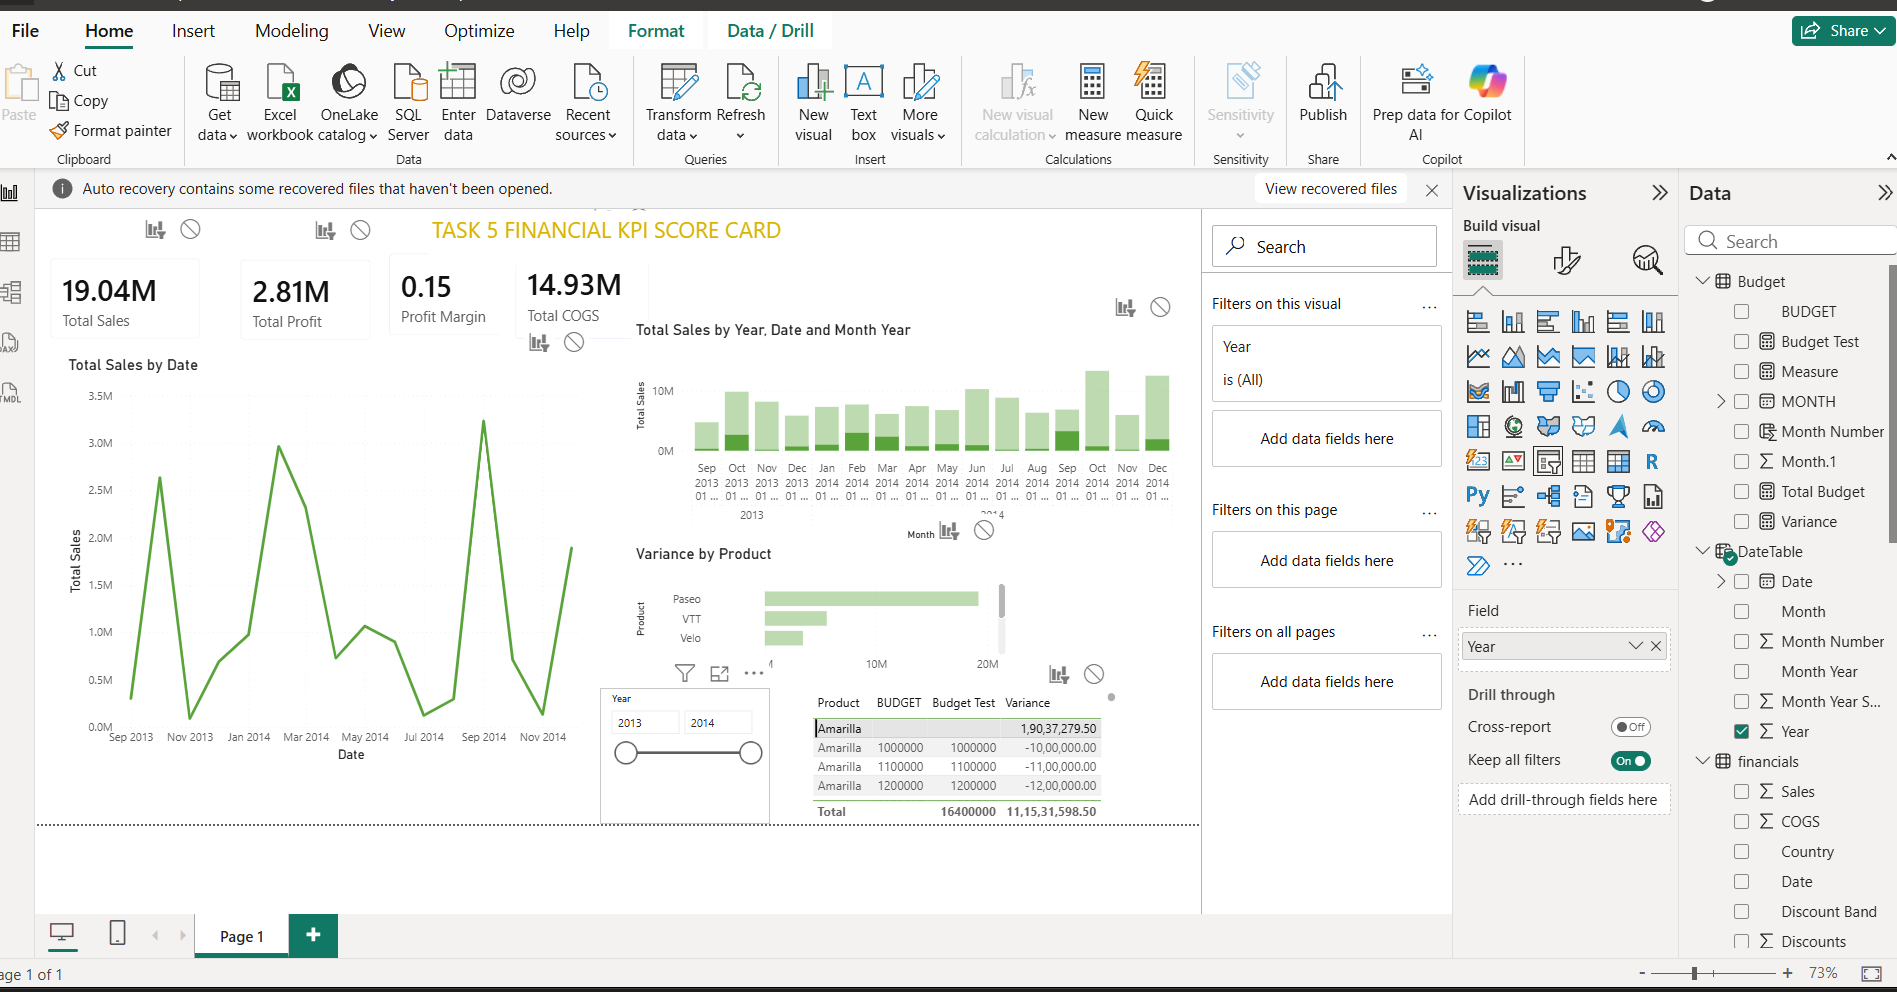

The page's visual inventory and layout, read from the dashboard file:
{"tool":"powerbi","page":{"name":"Page 1","canvas":[1280,720],"ordinal":0},"visuals":[{"type":"cardVisual","fields":{"Data":["financials.Total Sales"]},"box":[0,82.3,199,122.1],"z":0},{"type":"cardVisual","fields":{"Data":["financials.Profit Margin"]},"box":[371.9,76.8,157.8,124.9],"z":1000},{"type":"cardVisual","fields":{"Data":["financials.Total Profit"]},"box":[208.6,83.7,177,122.1],"z":2000},{"type":"cardVisual","fields":{"Data":["financials.Total COGS"]},"box":[510.5,70,181.1,135.8],"z":3000},{"type":"textbox","box":[430.9,46.7,417.2,60.4],"z":4000},{"type":"lineChart","fields":{"Y":["financials.Total Sales"],"Category":["financials.Date"]},"box":[31.6,205.8,588.7,451.5],"z":5000},{"type":"lineClusteredColumnComboChart","fields":{"Y":["financials.Total Sales"],"Category":["financials.Year","financials.Date.Variation.Date Hierarchy.Year","DateTable.Month Year"]},"box":[654.5,167.4,609.3,245.6],"z":6000},{"type":"clusteredBarChart","fields":{"Category":["financials.Product"],"Y":["Budget.Variance"]},"box":[654.5,413,416,150],"z":6001},{"type":"slicer","fields":{"Values":["DateTable.Year"]},"box":[620.2,570.8,186.6,149.6],"z":6002},{"type":"tableEx","fields":{"Values":["financials.Product","Budget.BUDGET","Budget.Budget Test","Budget.Variance"]},"box":[848,570.8,343.1,149.6],"z":6003}]}

Visuals, with their boxes on the page's 1280x720 design canvas (x1, y1, x2, y2). These are canvas units, not pixel positions in the 1897x992 screenshot, which may show the page scaled, cropped or inside an application window:
cardVisual - financials.Total Sales: region(0, 82, 199, 204)
cardVisual - financials.Profit Margin: region(372, 77, 530, 202)
cardVisual - financials.Total Profit: region(209, 84, 386, 206)
cardVisual - financials.Total COGS: region(510, 70, 692, 206)
textbox: region(431, 47, 848, 107)
lineChart - financials.Total Sales x financials.Date: region(32, 206, 620, 657)
lineClusteredColumnComboChart - financials.Total Sales x financials.Year: region(654, 167, 1264, 413)
clusteredBarChart - financials.Product x Budget.Variance: region(654, 413, 1070, 563)
slicer - DateTable.Year: region(620, 571, 807, 720)
tableEx - financials.Product x Budget.BUDGET: region(848, 571, 1191, 720)
